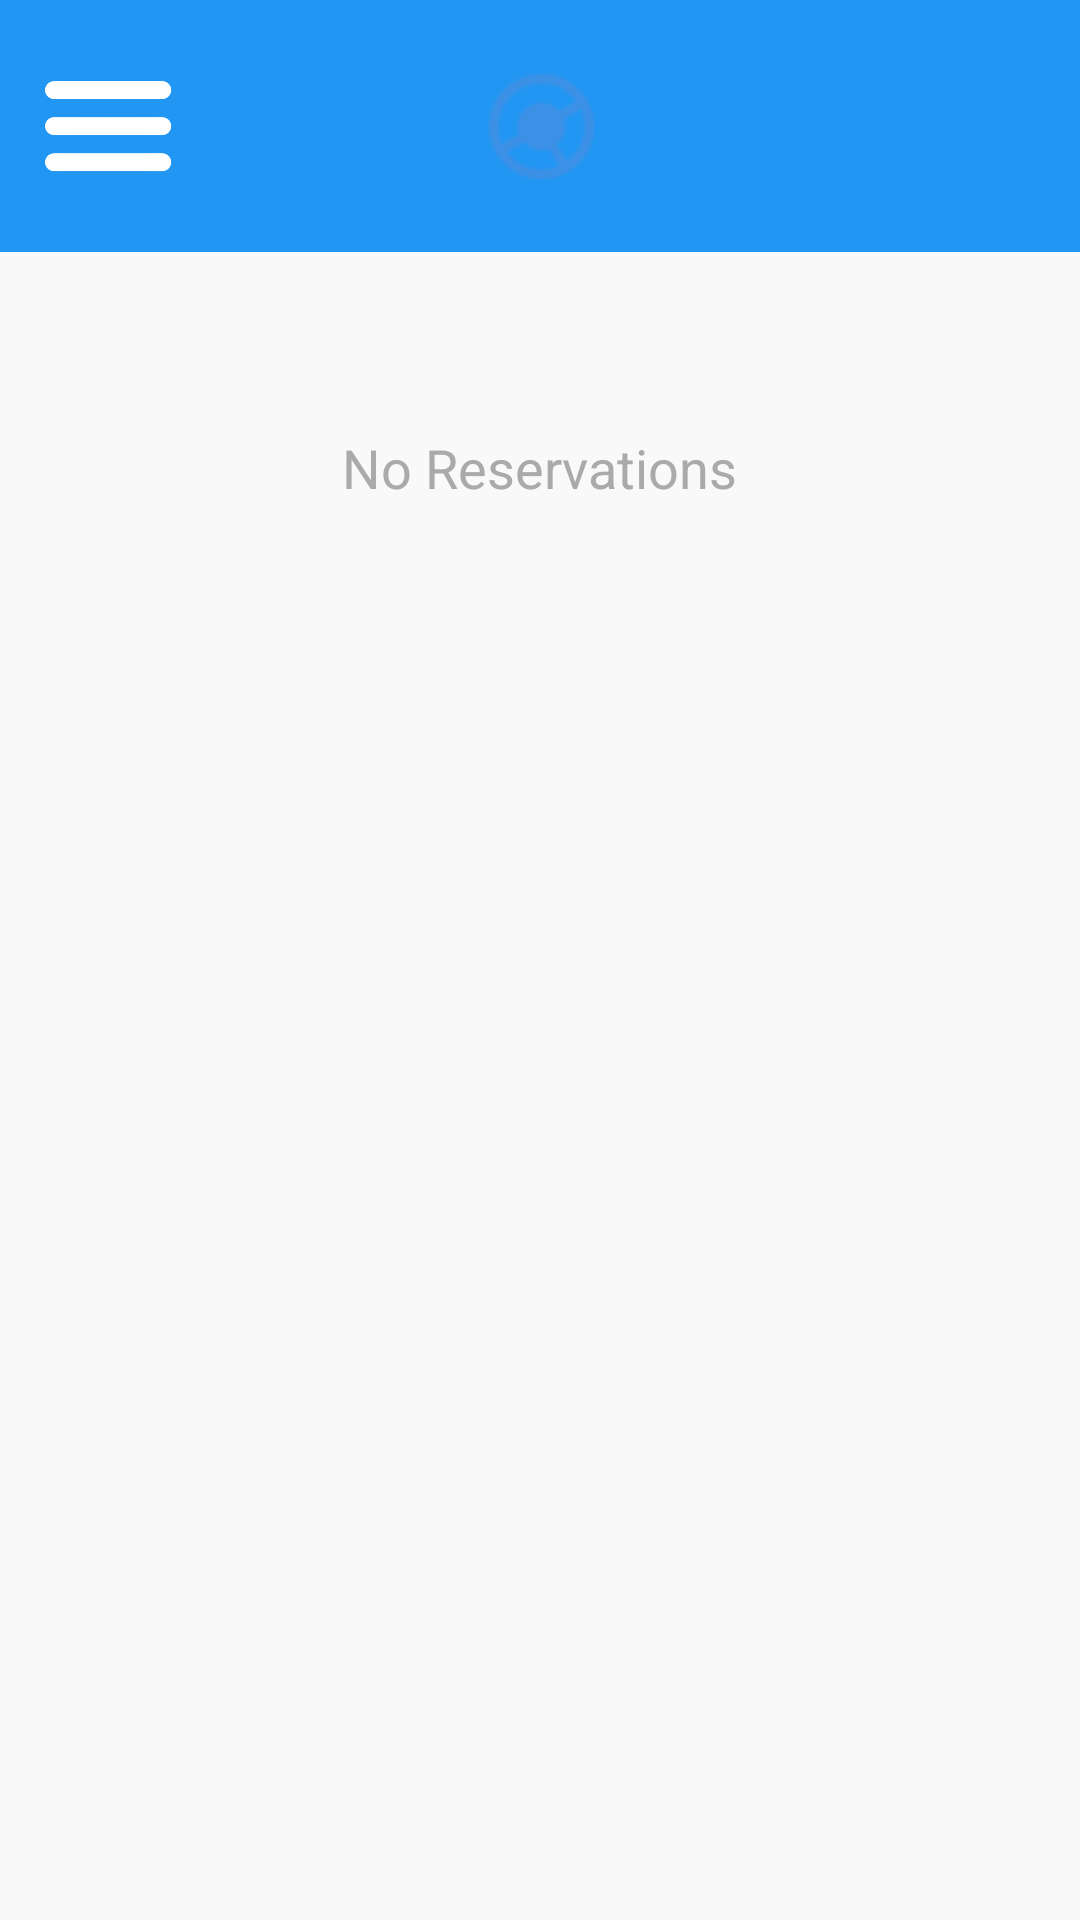

Where icons sit on this 1080×1920 app screen, as (x1, y1, x2, y2):
Menu: (45, 81, 172, 171)
